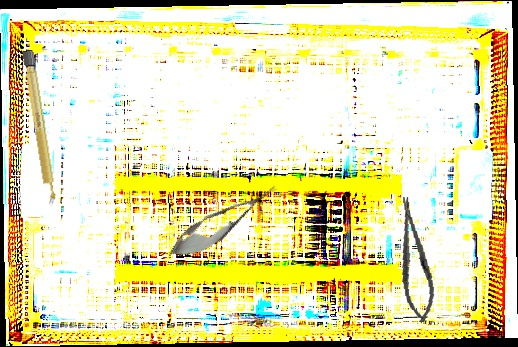Micro Scissor: (160, 173, 286, 270)
Needle Holder: (390, 194, 440, 325)
Scalpel Handle: (21, 49, 58, 207)
